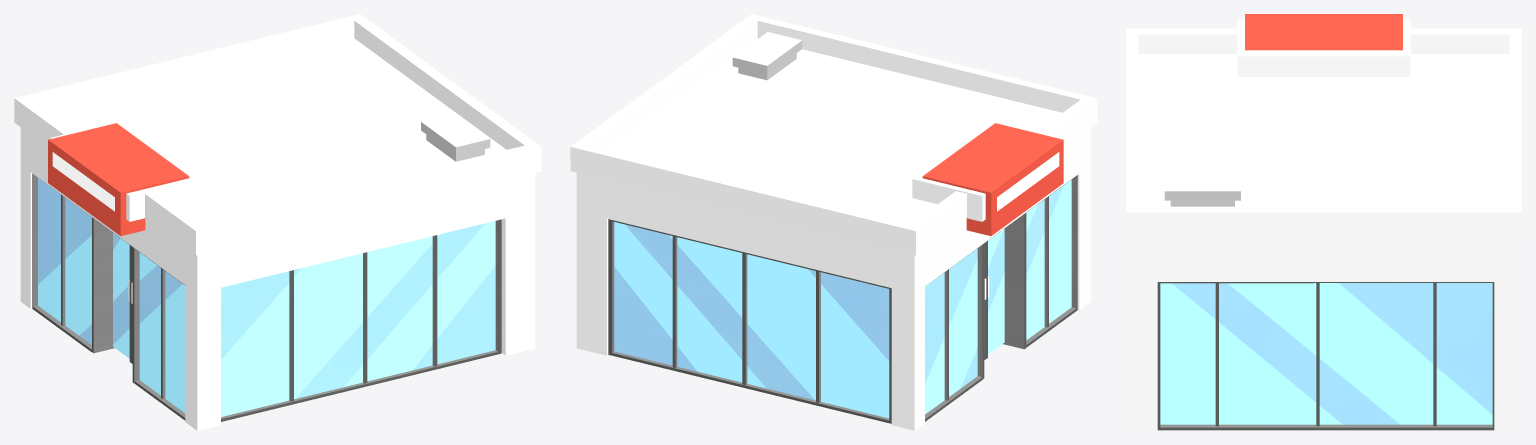
The model's file is tile_for_home_1x1.006 (8) supermarket (5).glb.
3 views of the same model, side by side, from view 1: azimuth 30°, elevation 25°; view 2: azimuth 150°, elevation 25°; view 3: azimuth 270°, elevation 25° (orthographic). The views are drawn at different scales.
Parts seen in each view (by area): view 1: supermarket; view 2: supermarket; view 3: supermarket.
Part boxes in pixels (box(x1,y1,x2,y2)): supermarket: box(14, 14, 541, 430); supermarket: box(570, 14, 1097, 430); supermarket: box(1126, 14, 1521, 430).
Size of the model in its own units: 6.06 by 3.26 by 5.2.
1 material, 1 textured.
